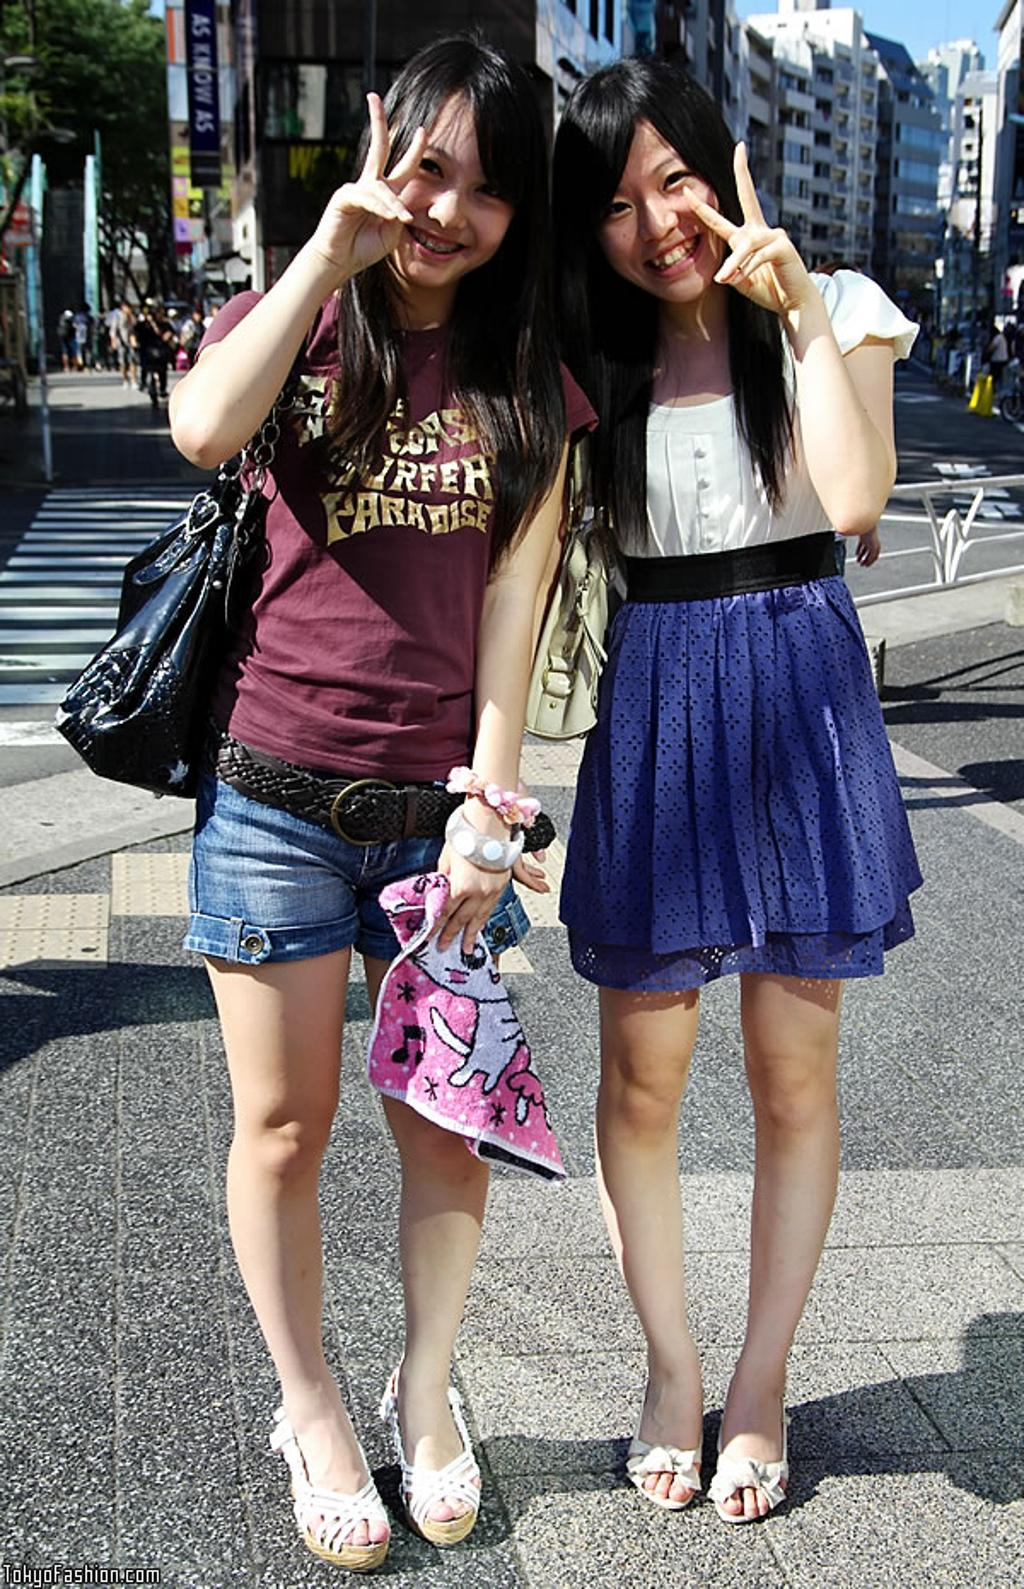face: (583, 102, 729, 301), (375, 87, 512, 289)
